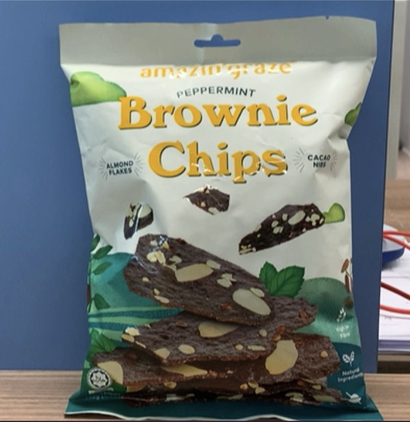crackers_100g-199g: (88, 63, 347, 396)
